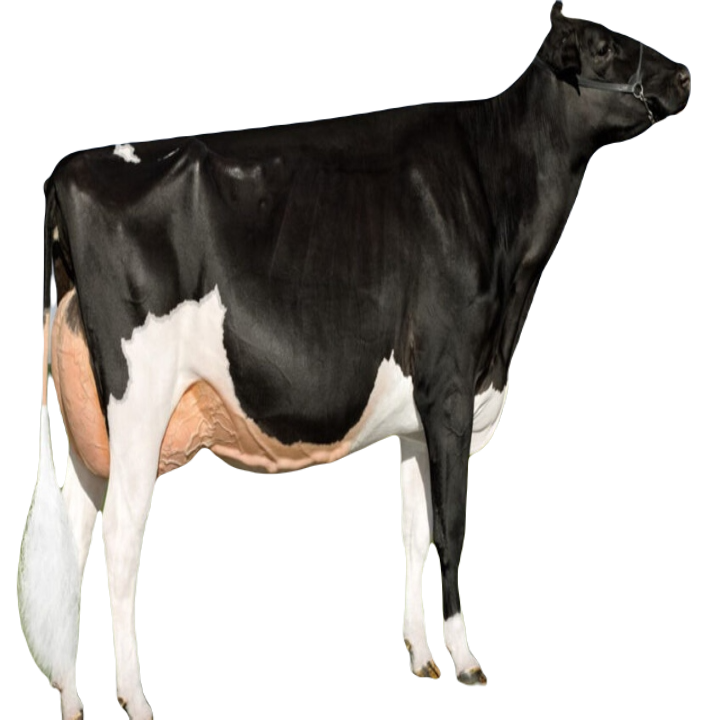Cow: (18, 0, 694, 718)
